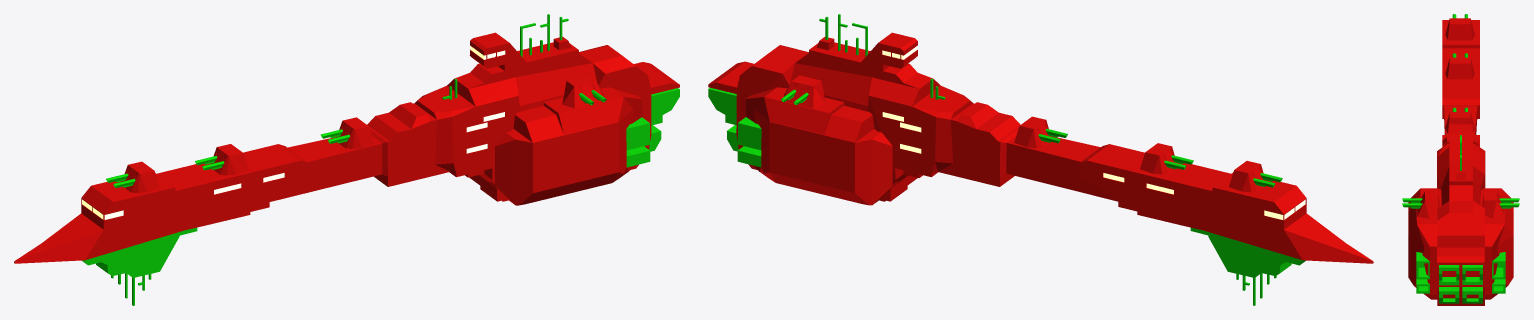
The model's file is Farsky 3D.fbx.
3 views of the same model, side by side, from view 1: azimuth 30°, elevation 25°; view 2: azimuth 150°, elevation 25°; view 3: azimuth 270°, elevation 25° (orthographic). The views are drawn at different scales.
Parts seen in each view (by area): view 1: PrimaryHull, TertiaryHull, Turret.002, Turret.004, Turret.001, Turret.003, SpecialHull; view 2: PrimaryHull, TertiaryHull, Turret, Turret.002, Turret.003, Turret.004, SpecialHull; view 3: PrimaryHull, TertiaryHull, Turret.001, Turret, Turret.004, Turret.003, Turret.002.
Part boxes in pixels (x1=…): PrimaryHull: x1=14, y1=32, x2=679, y2=263; TertiaryHull: x1=82, y1=14, x2=679, y2=305; Turret.002: x1=320, y1=117, x2=374, y2=148; Turret.004: x1=106, y1=161, x2=159, y2=192; Turret.001: x1=562, y1=75, x2=606, y2=108; Turret.003: x1=195, y1=144, x2=248, y2=175; SpecialHull: x1=82, y1=46, x2=505, y2=219; PrimaryHull: x1=708, y1=32, x2=1373, y2=263; TertiaryHull: x1=708, y1=14, x2=1305, y2=305; Turret: x1=781, y1=75, x2=825, y2=108; Turret.002: x1=1014, y1=116, x2=1067, y2=148; Turret.003: x1=1140, y1=143, x2=1193, y2=174; Turret.004: x1=1229, y1=161, x2=1282, y2=192; SpecialHull: x1=882, y1=46, x2=1305, y2=219; PrimaryHull: x1=1408, y1=20, x2=1513, y2=305; TertiaryHull: x1=1416, y1=135, x2=1505, y2=303; Turret.001: x1=1402, y1=191, x2=1439, y2=218; Turret: x1=1482, y1=191, x2=1519, y2=218; Turret.004: x1=1445, y1=14, x2=1474, y2=40; Turret.003: x1=1445, y1=53, x2=1474, y2=79; Turret.002: x1=1445, y1=107, x2=1474, y2=133.
Bounding box in the file's own units: 561 × 156 × 105.
